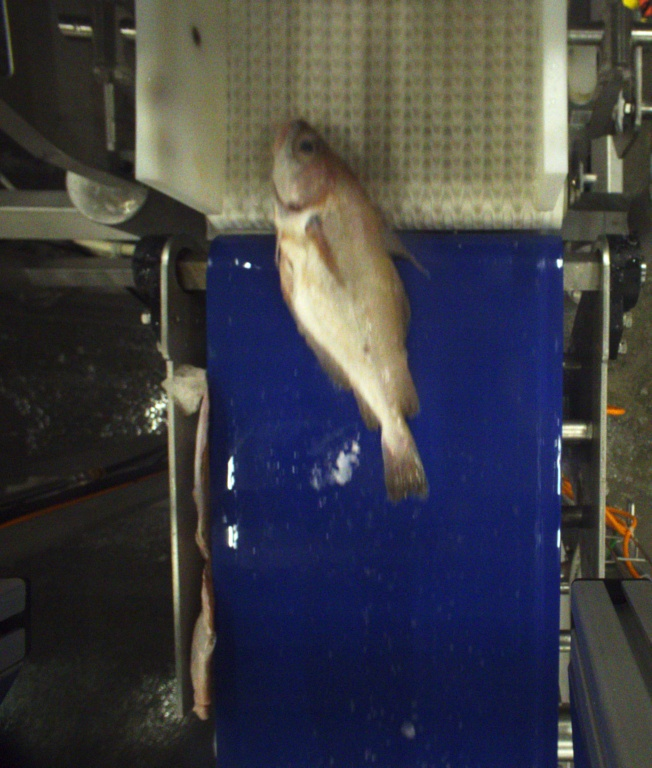BIB: (270, 117, 428, 505)
